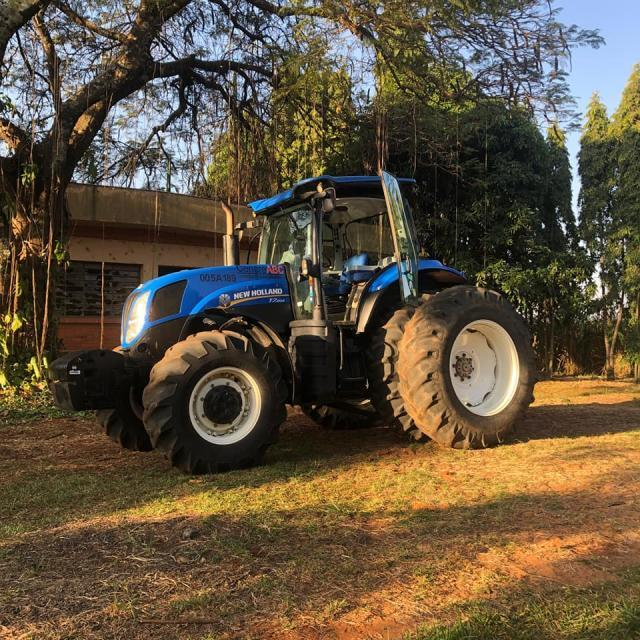Tratores - v5 YOLO V8L 2024-11-13: (46, 167, 538, 475)
